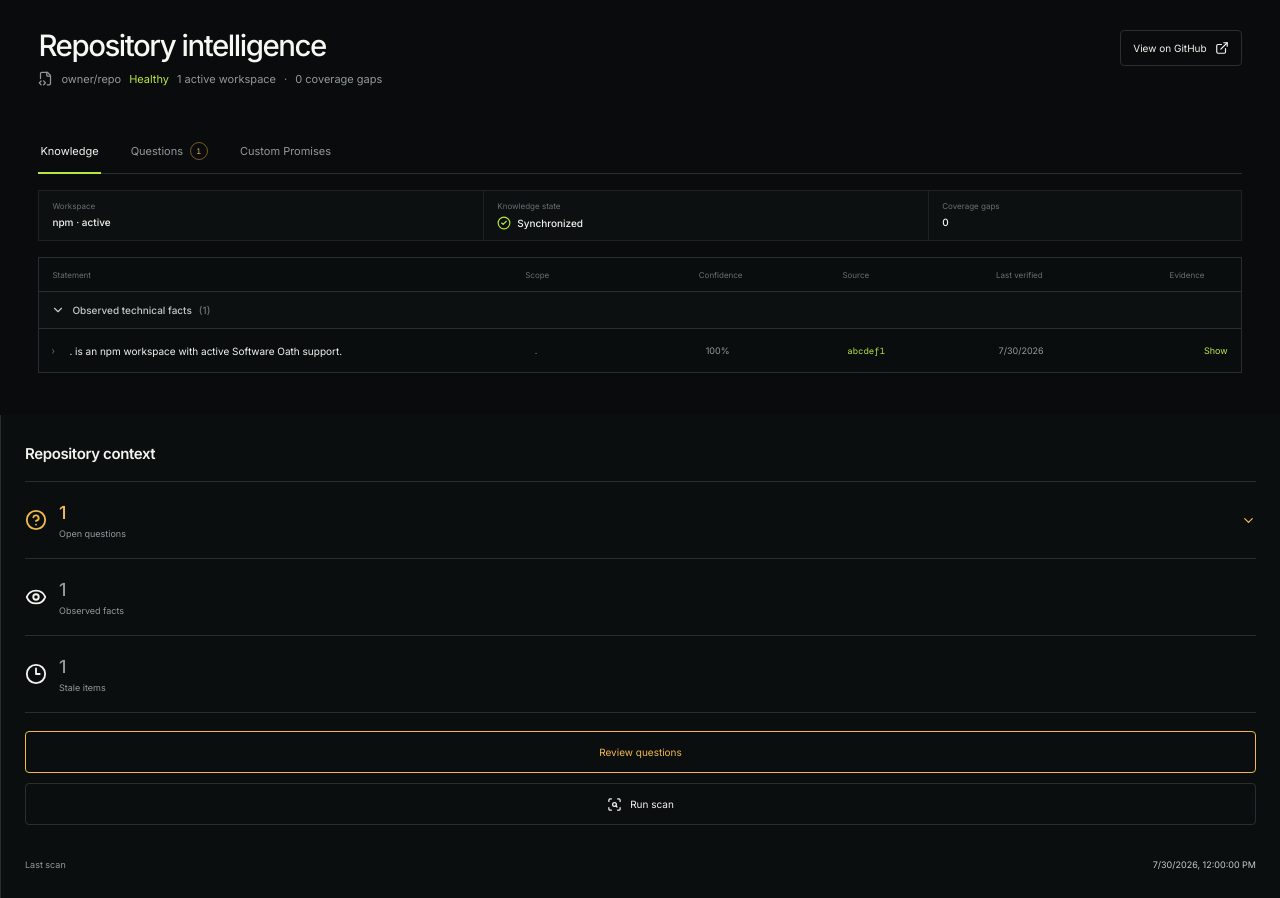
Scenario: repository intelligence workspace › answers a question with CSRF and can queue a fresh scan
Click the tab "Questions 1" at (169, 151), box [129,128,210,173]
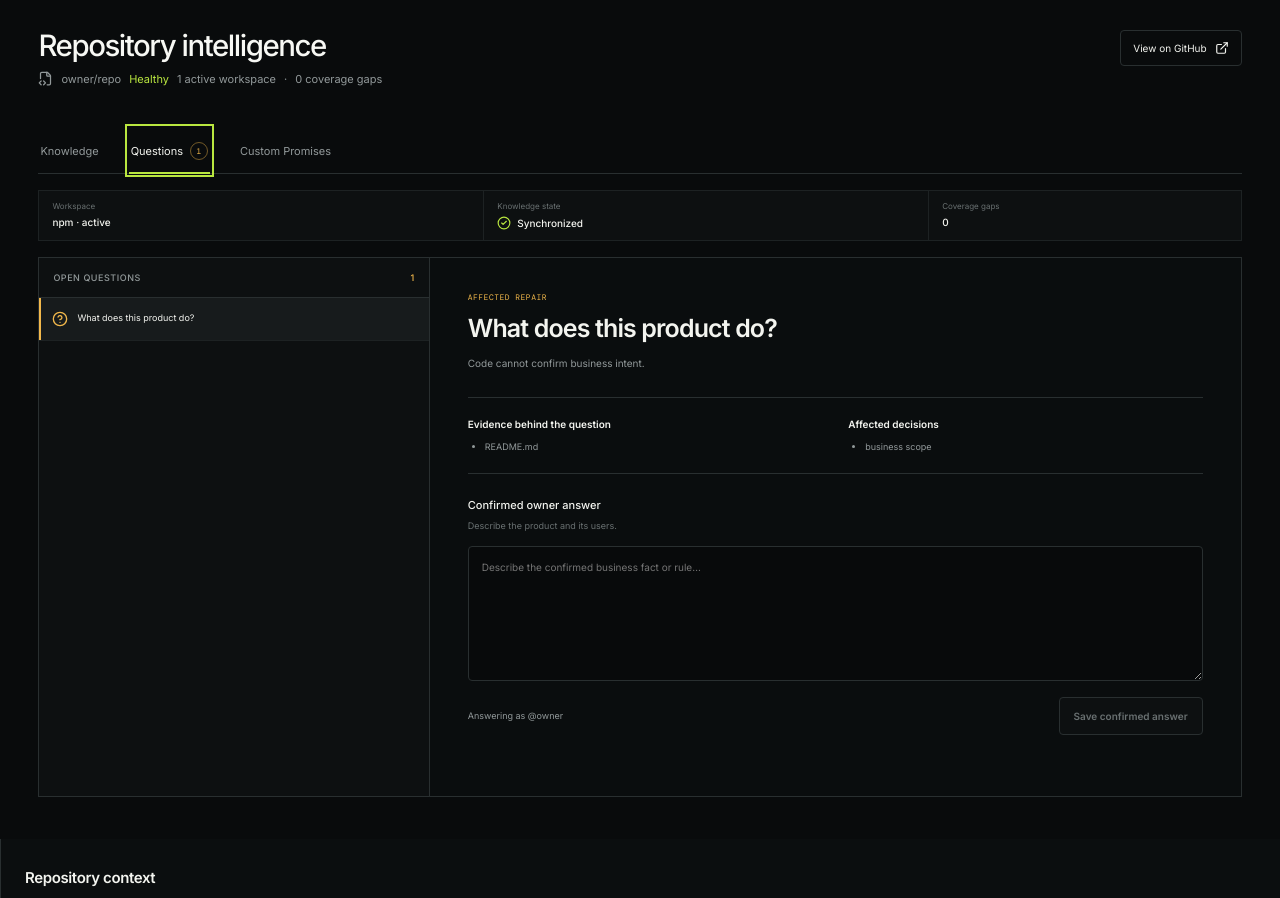
Result: the heading "What does this product do?" is shown at [468,313,777,343]
Type "A service for store operators to manage orders." into the text box labelled "Confirmed owner answer" at (835, 614), box [468,546,1203,681]
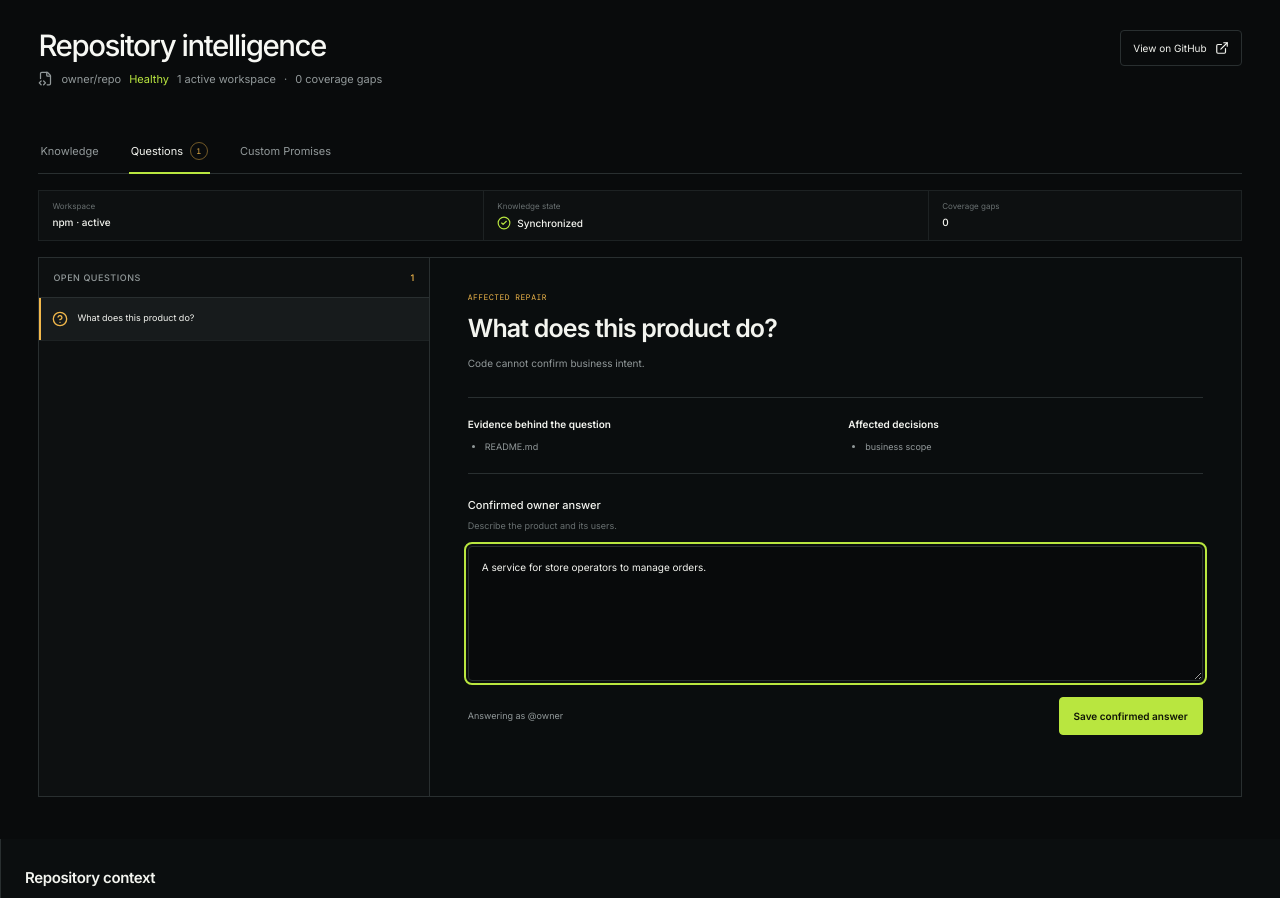
Click the button "Save confirmed answer" at (1131, 716), box [1059,697,1203,735]
(page scrolled)
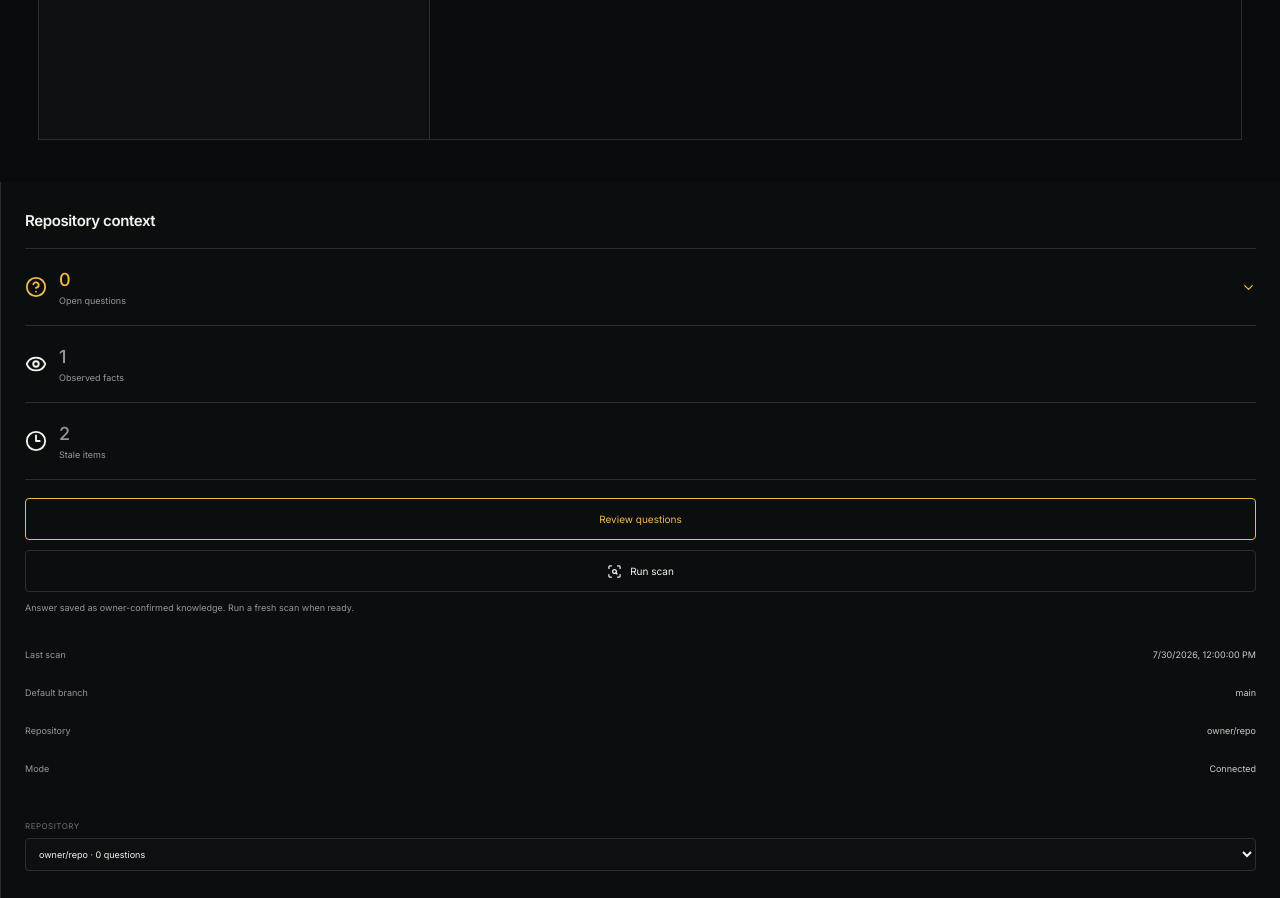
Click the button "Run scan" at (640, 571), box [25,550,1256,592]
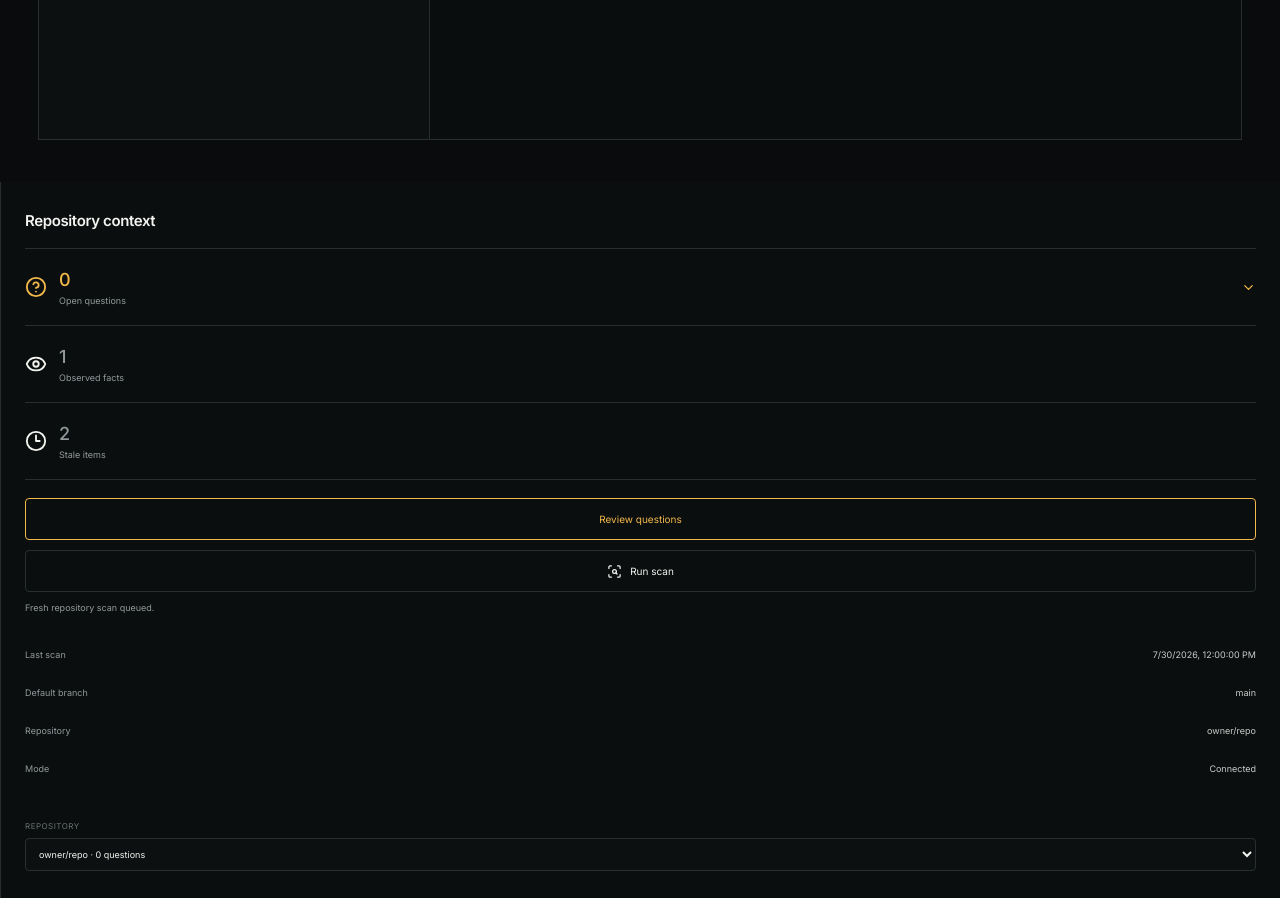
Result: the text "Fresh repository scan queued." is shown at [25,602,154,613]
